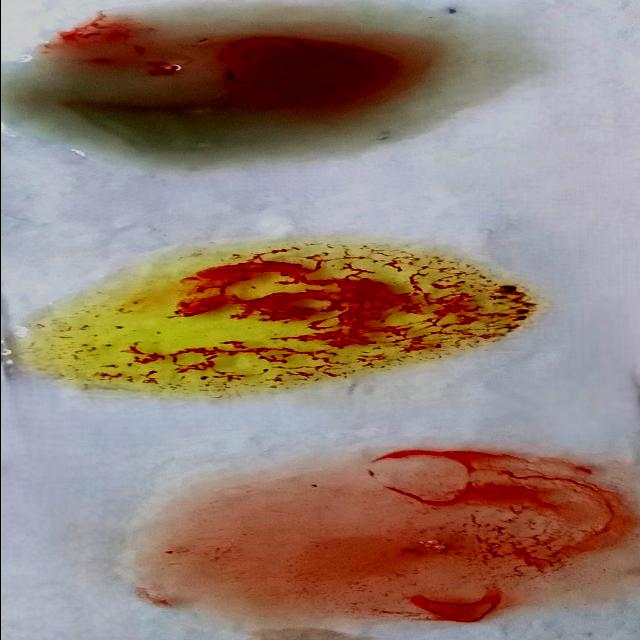B: (6, 246, 538, 396)
D: (174, 450, 638, 620)
